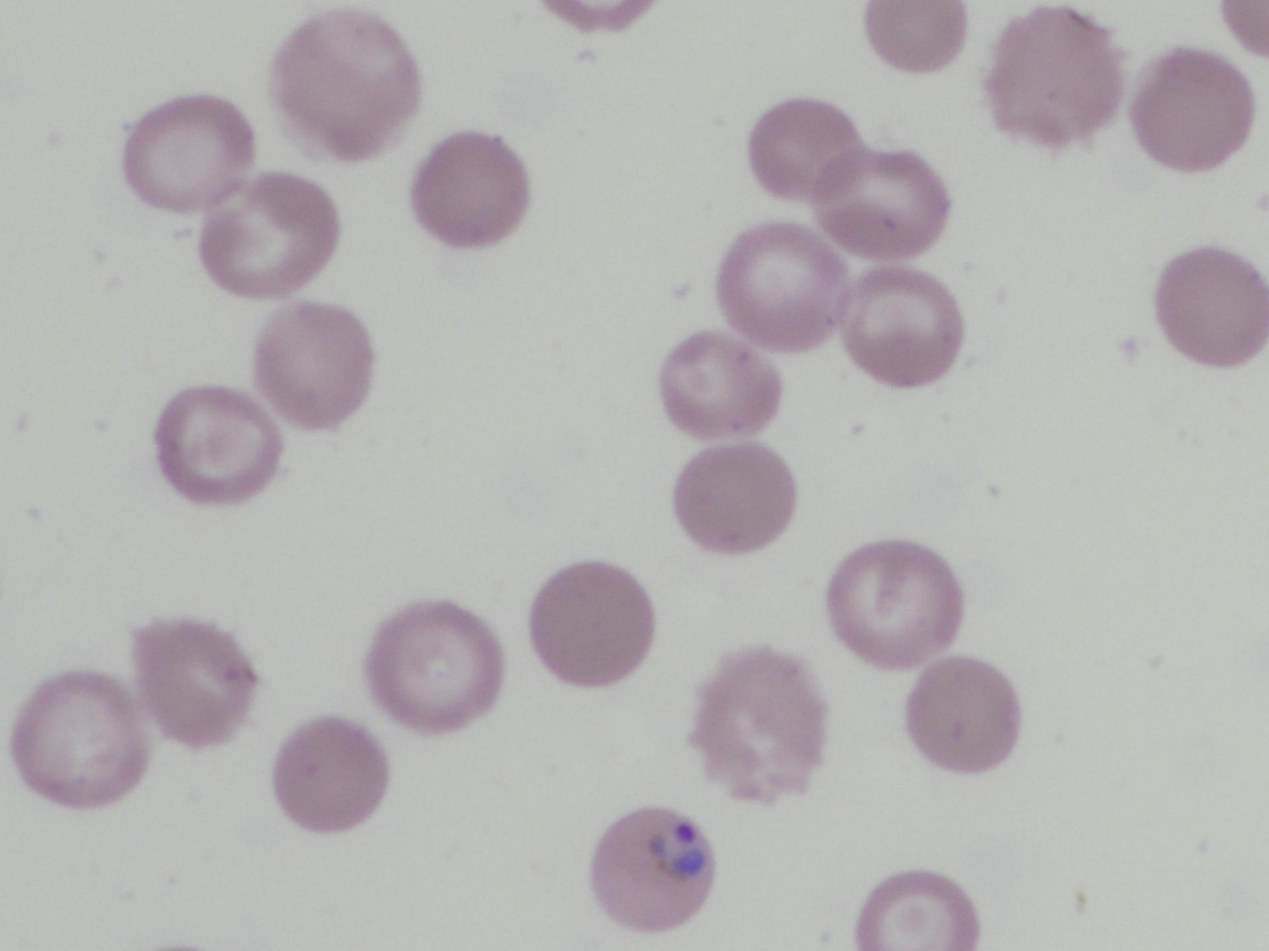Infected: (588, 806, 715, 933)
Uninfected: (272, 10, 420, 157), (690, 648, 828, 802), (986, 8, 1126, 147), (10, 673, 146, 809), (827, 540, 963, 666), (369, 603, 502, 731), (198, 176, 334, 298), (720, 225, 847, 352), (132, 619, 258, 746), (842, 263, 968, 389), (529, 562, 655, 684), (1129, 48, 1252, 171), (252, 301, 371, 426), (155, 385, 282, 502), (123, 96, 254, 209), (817, 150, 951, 259), (1153, 247, 1269, 365), (904, 658, 1020, 775), (411, 133, 529, 247), (673, 443, 794, 554), (273, 717, 389, 832), (660, 330, 778, 437), (748, 98, 863, 200), (854, 869, 976, 950), (866, 1, 964, 71)
